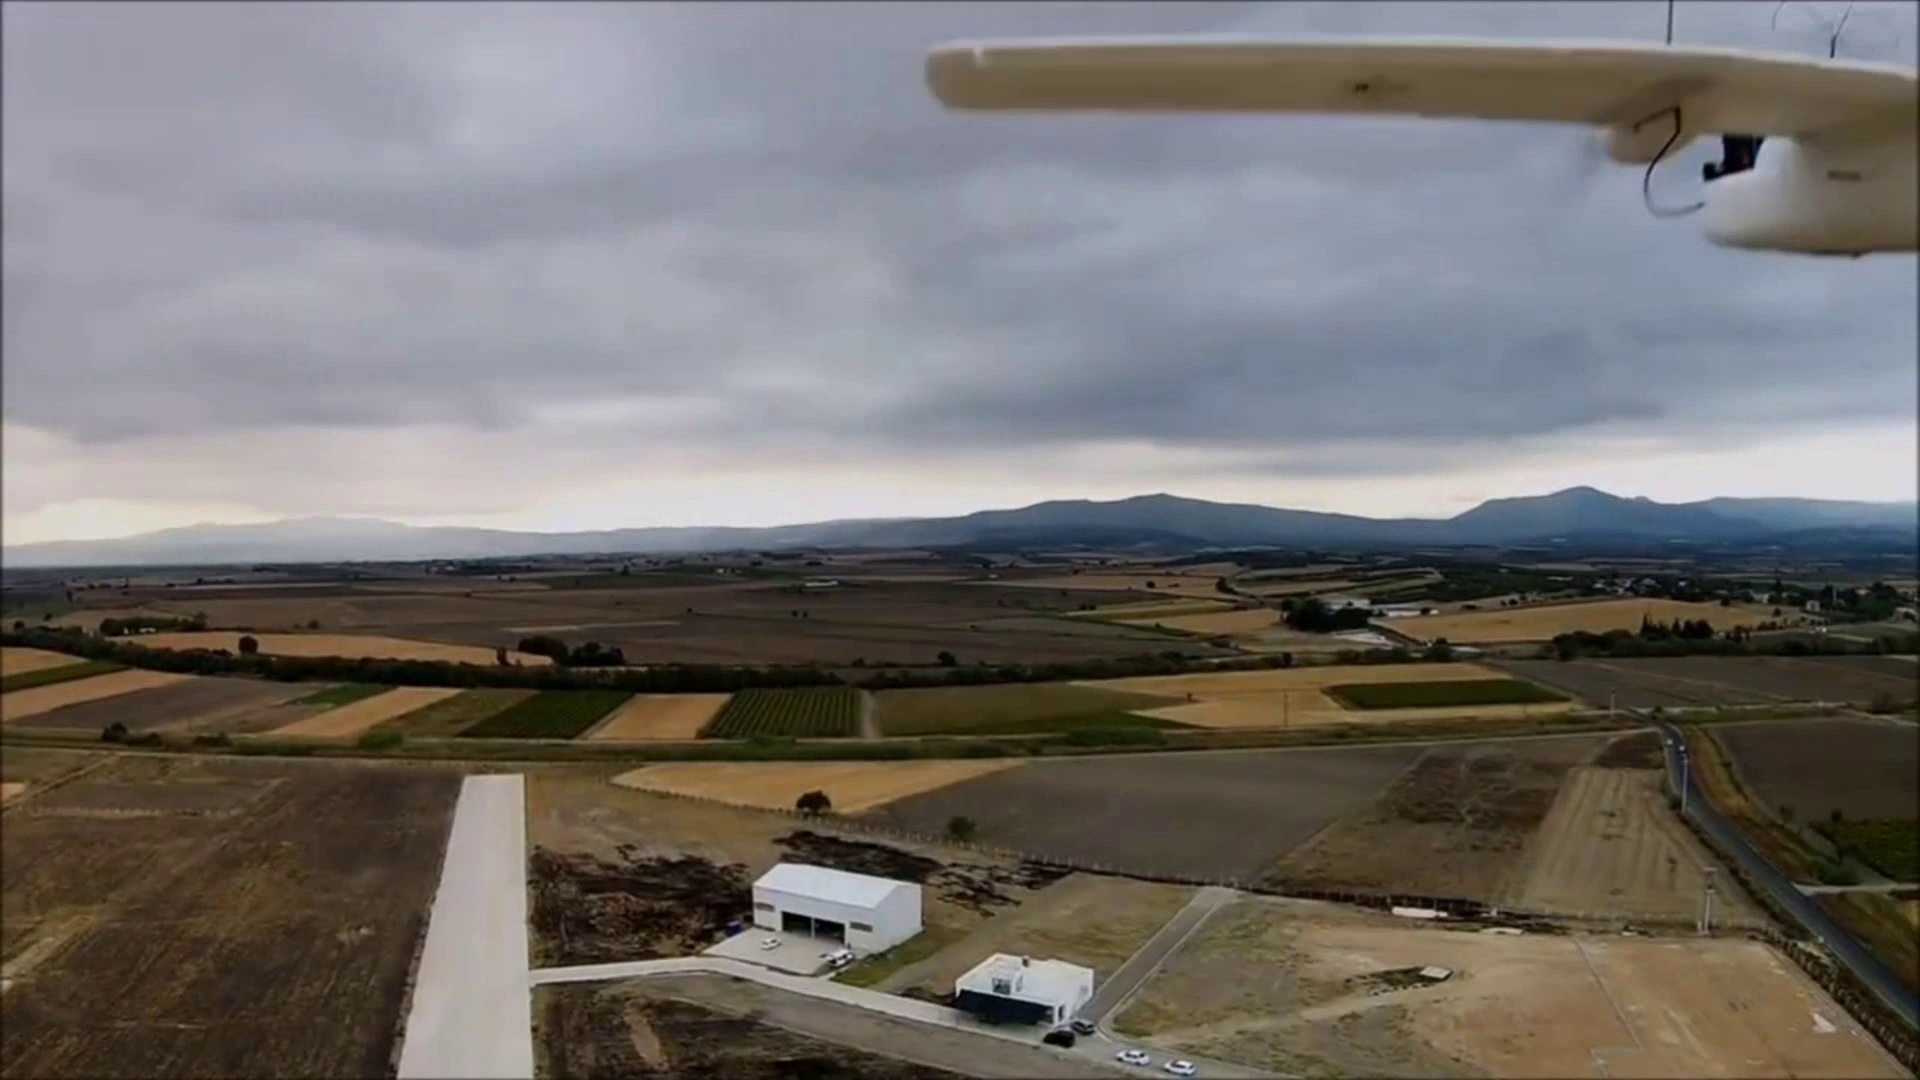airplane: (931, 24, 1915, 256)
